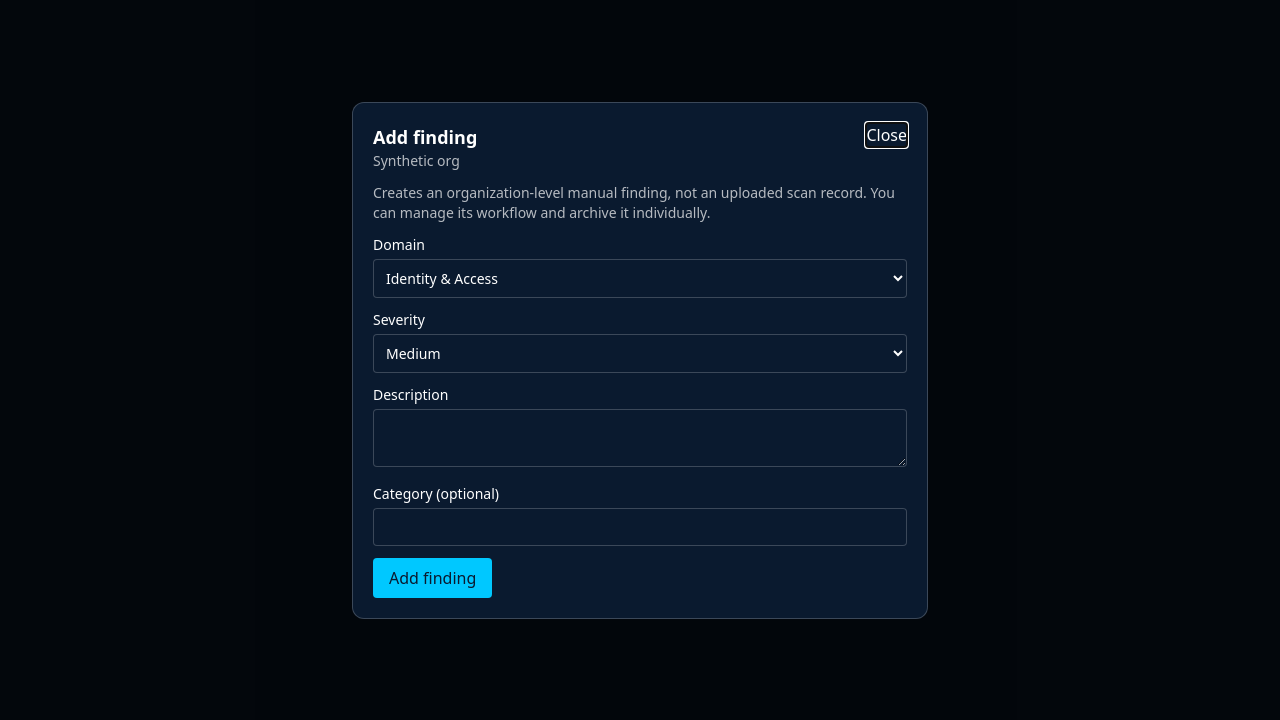
it: does not retry an uncertain creation and retains the description
In the text box labelled "Description": [640, 438] box [373, 408, 907, 466], type "Retain me"
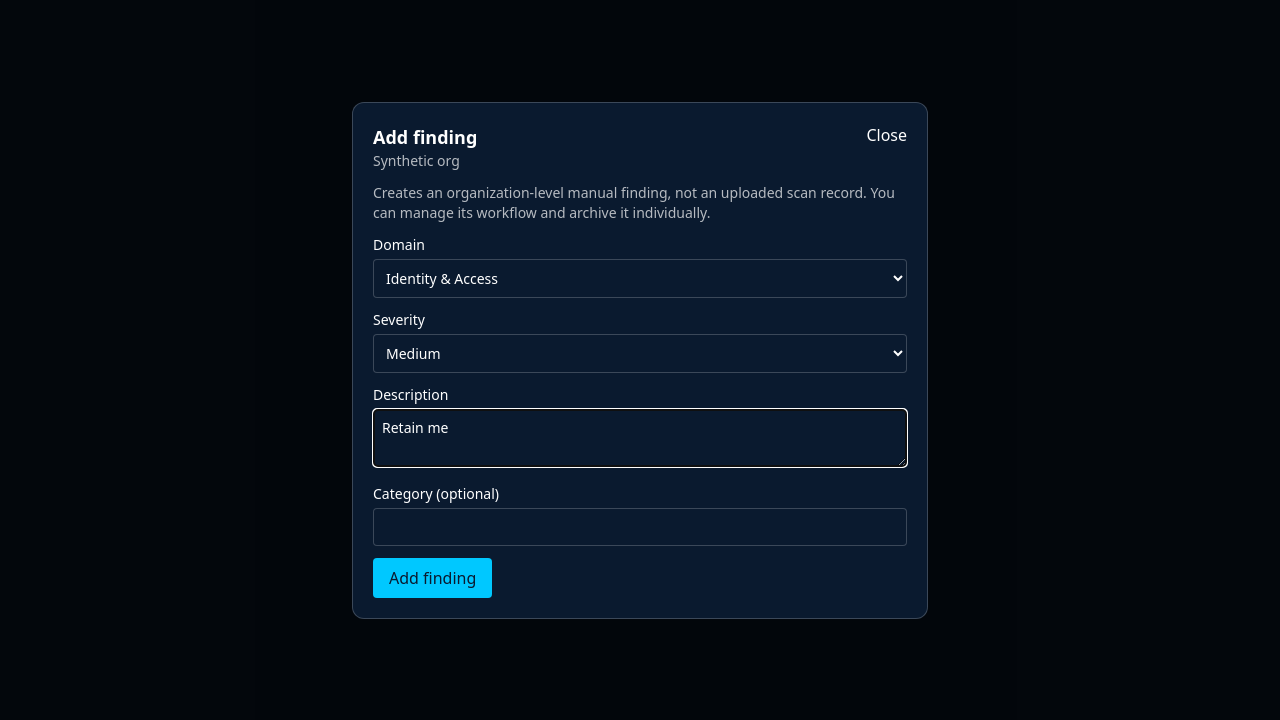
Click the button "Add finding": [433, 578] box [373, 558, 492, 598]
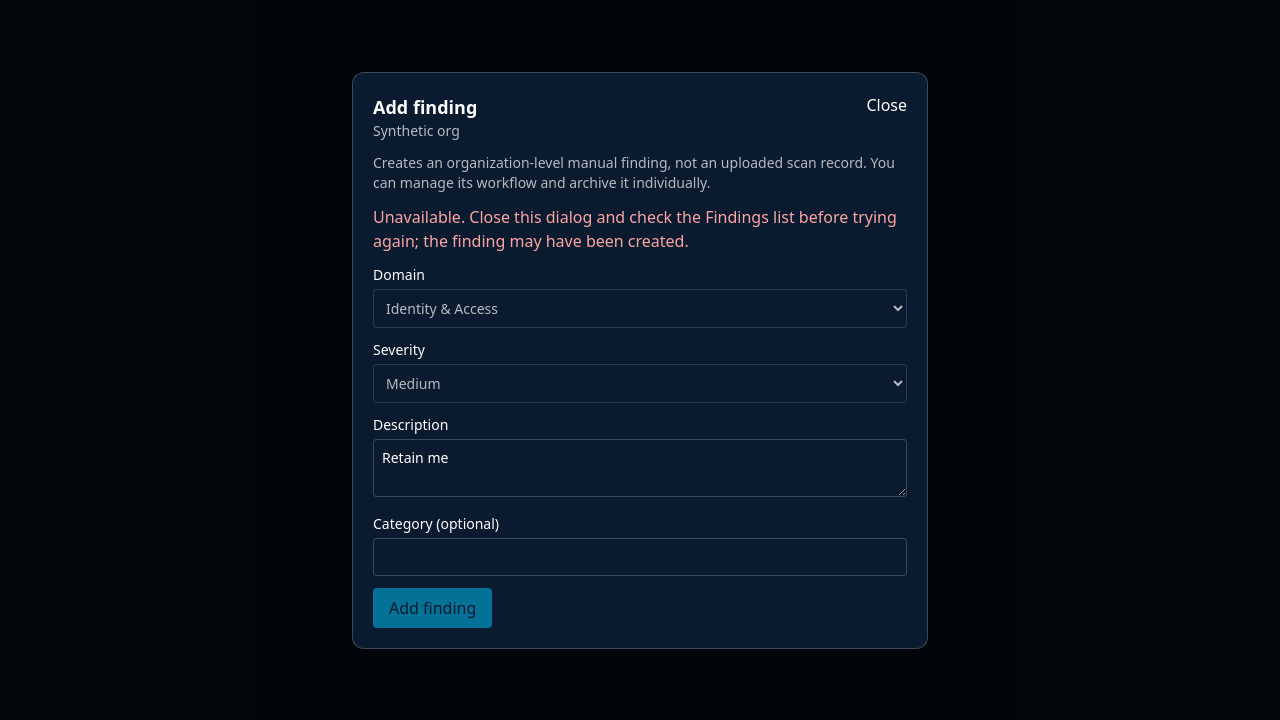
Expected: the button "Add finding" is disabled, [373, 588, 492, 628]
Expected: the message shows "may have been created", [373, 206, 897, 252]
